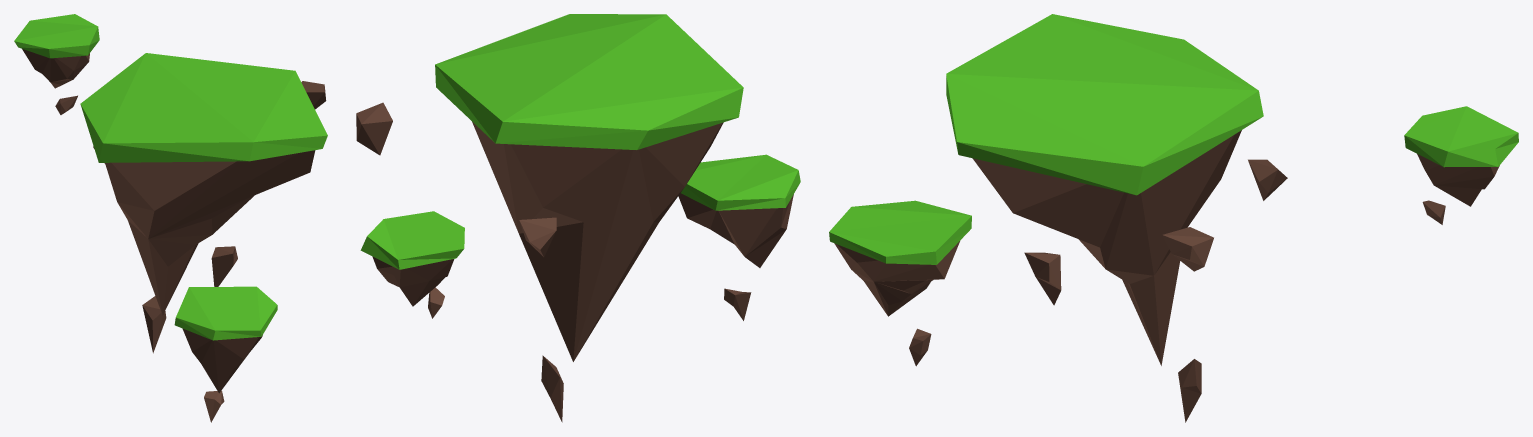
The model's file is floating_islands.gltf.
3 renders of one model, left to right at view 1: azimuth 30°, elevation 25°; view 2: azimuth 150°, elevation 25°; view 3: azimuth 270°, elevation 25°, orthographic. The views are drawn at different scales.
Parts seen in each view (by area): view 1: model; view 2: model; view 3: model.
Part boxes in pixels (box(x1,y1,x2,y2)): model: box(14, 14, 327, 422); model: box(356, 14, 800, 422); model: box(829, 14, 1518, 422).
Bounding box in the file's own units: 1.04 × 1 × 1.77.
